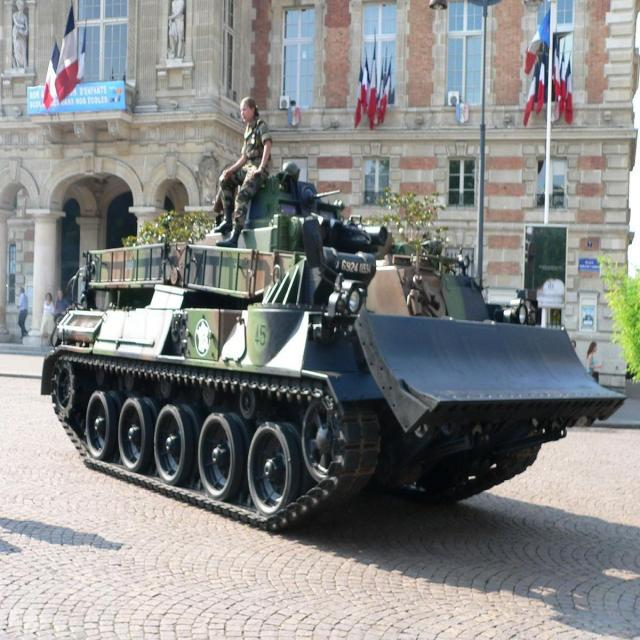Tanks: (47, 176, 628, 530)
